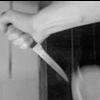melee: (32, 41, 69, 81)
